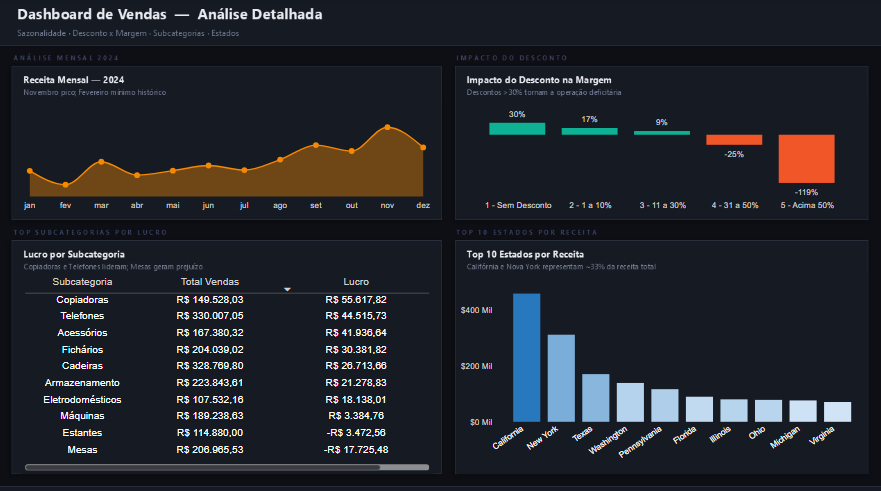

What the dashboard file says about the page in this screenshot:
{"tool":"powerbi","page":{"name":"Página 2","canvas":[1280,720],"ordinal":1},"visuals":[{"type":"areaChart","fields":{"Y":["dados_finais.Total Vendas"],"Category":["Calendario.Mes","Calendario.Mes Numero"]},"box":[21.6,146.9,617.8,168.5],"z":0},{"type":"tableEx","fields":{"Values":["dados_finais.subcategoria","dados_finais.Total Vendas","dados_finais.Lucro Total","dados_finais.Marger %"]},"box":[34.1,396,593.3,290.7],"z":1000},{"type":"columnChart","fields":{"Category":["dados_finais.estado"],"Y":["dados_finais.Total Vendas"]},"box":[663,396,593.3,290.7],"z":2000},{"type":"clusteredColumnChart","fields":{"Category":["dados_finais.Faixa Desconto"],"Y":["dados_finais.Média Margem %"]},"box":[663,146.8,593.3,169.1],"z":4000}]}

Visuals, with their boxes in screenshot pixels (x1, y1, x2, y2), scaled from the page's 1280x720 canvas onto the 881x491 screenshot:
areaChart - dados_finais.Total Vendas x Calendario.Mes: box(15, 100, 440, 215)
tableEx - dados_finais.subcategoria x dados_finais.Total Vendas: box(23, 270, 432, 468)
columnChart - dados_finais.estado x dados_finais.Total Vendas: box(456, 270, 865, 468)
clusteredColumnChart - dados_finais.Faixa Desconto x dados_finais.Média Margem %: box(456, 100, 865, 215)
